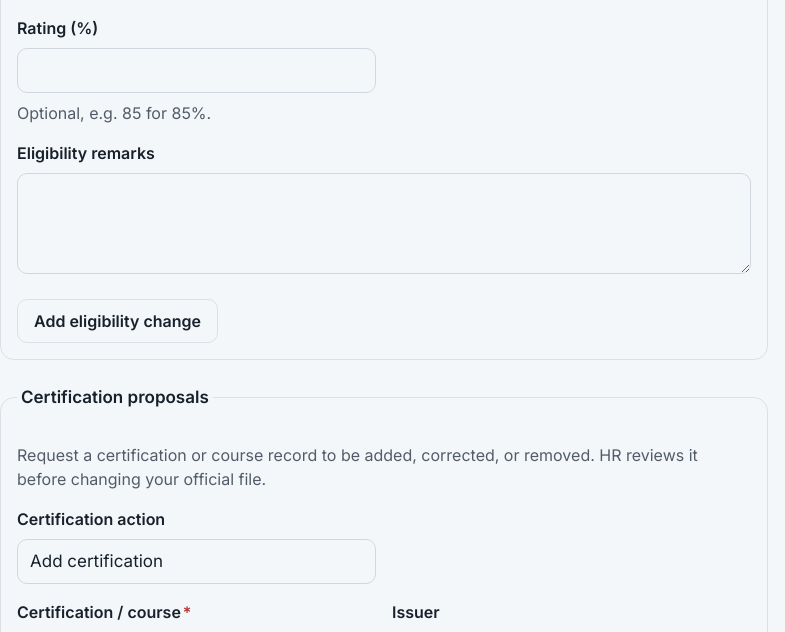
Test case: ProfileChangeRequestForm › shows inline errors for incomplete eligibility proposals
(page scrolled)
Click the button "Add eligibility change" at [118, 320], box [17,298,218,342]
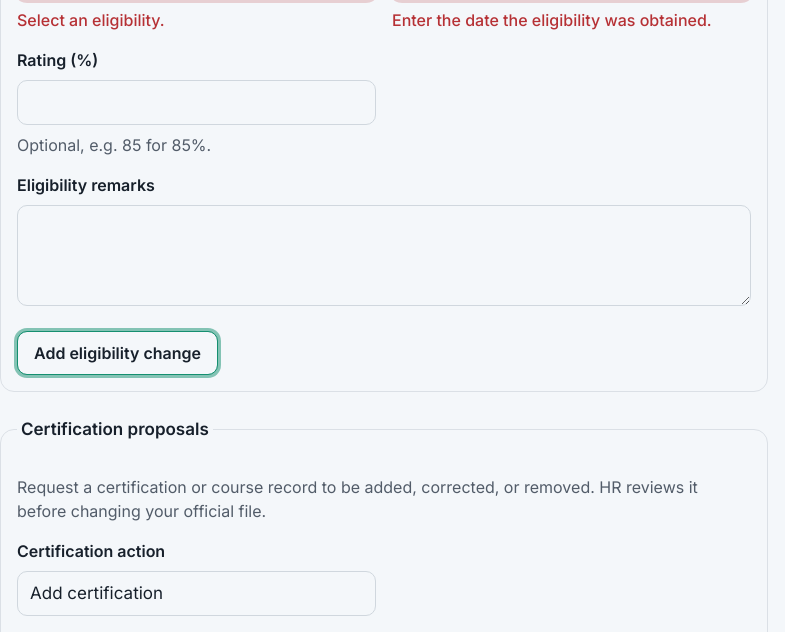
Expected: the text "Select an eligibility." is shown, [17,10,165,30]
Expected: the text "Enter the date the eligibility was obtained." is shown, [392,8,751,32]
